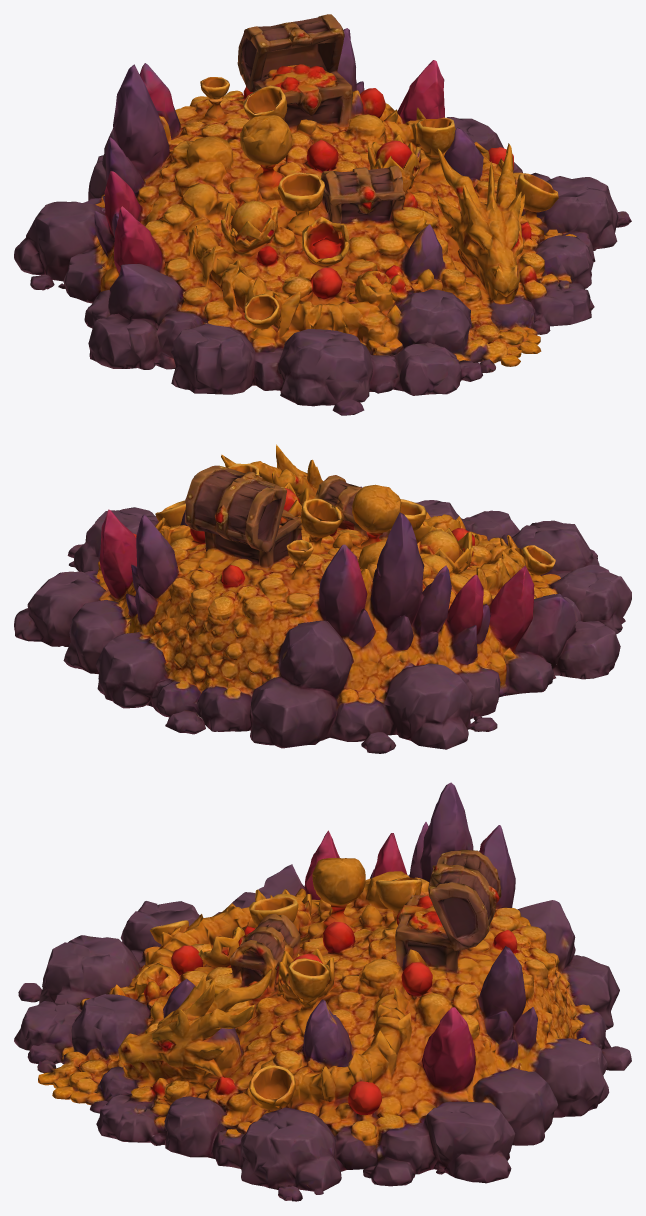
The model's file is dragon_hoard.glb.
The picture shows the model from 3 angles, top to bottom: view 1: azimuth 30°, elevation 25°; view 2: azimuth 150°, elevation 25°; view 3: azimuth 270°, elevation 25°; orthographic projection. The views are drawn at different scales.
Parts seen in each view (by area): view 1: tripo_node_848caa86-4c16-4e66-85e5-ea551bea883e; view 2: tripo_node_848caa86-4c16-4e66-85e5-ea551bea883e; view 3: tripo_node_848caa86-4c16-4e66-85e5-ea551bea883e.
Boxes of the visible parts, x1,y1,x2,y2 form: tripo_node_848caa86-4c16-4e66-85e5-ea551bea883e: (14,14,631,415); tripo_node_848caa86-4c16-4e66-85e5-ea551bea883e: (14,444,631,753); tripo_node_848caa86-4c16-4e66-85e5-ea551bea883e: (14,782,631,1201).
Bounding box in the file's own units: 0.9792 × 0.3416 × 0.9209.
Materials: 1 (1 with a texture image).
